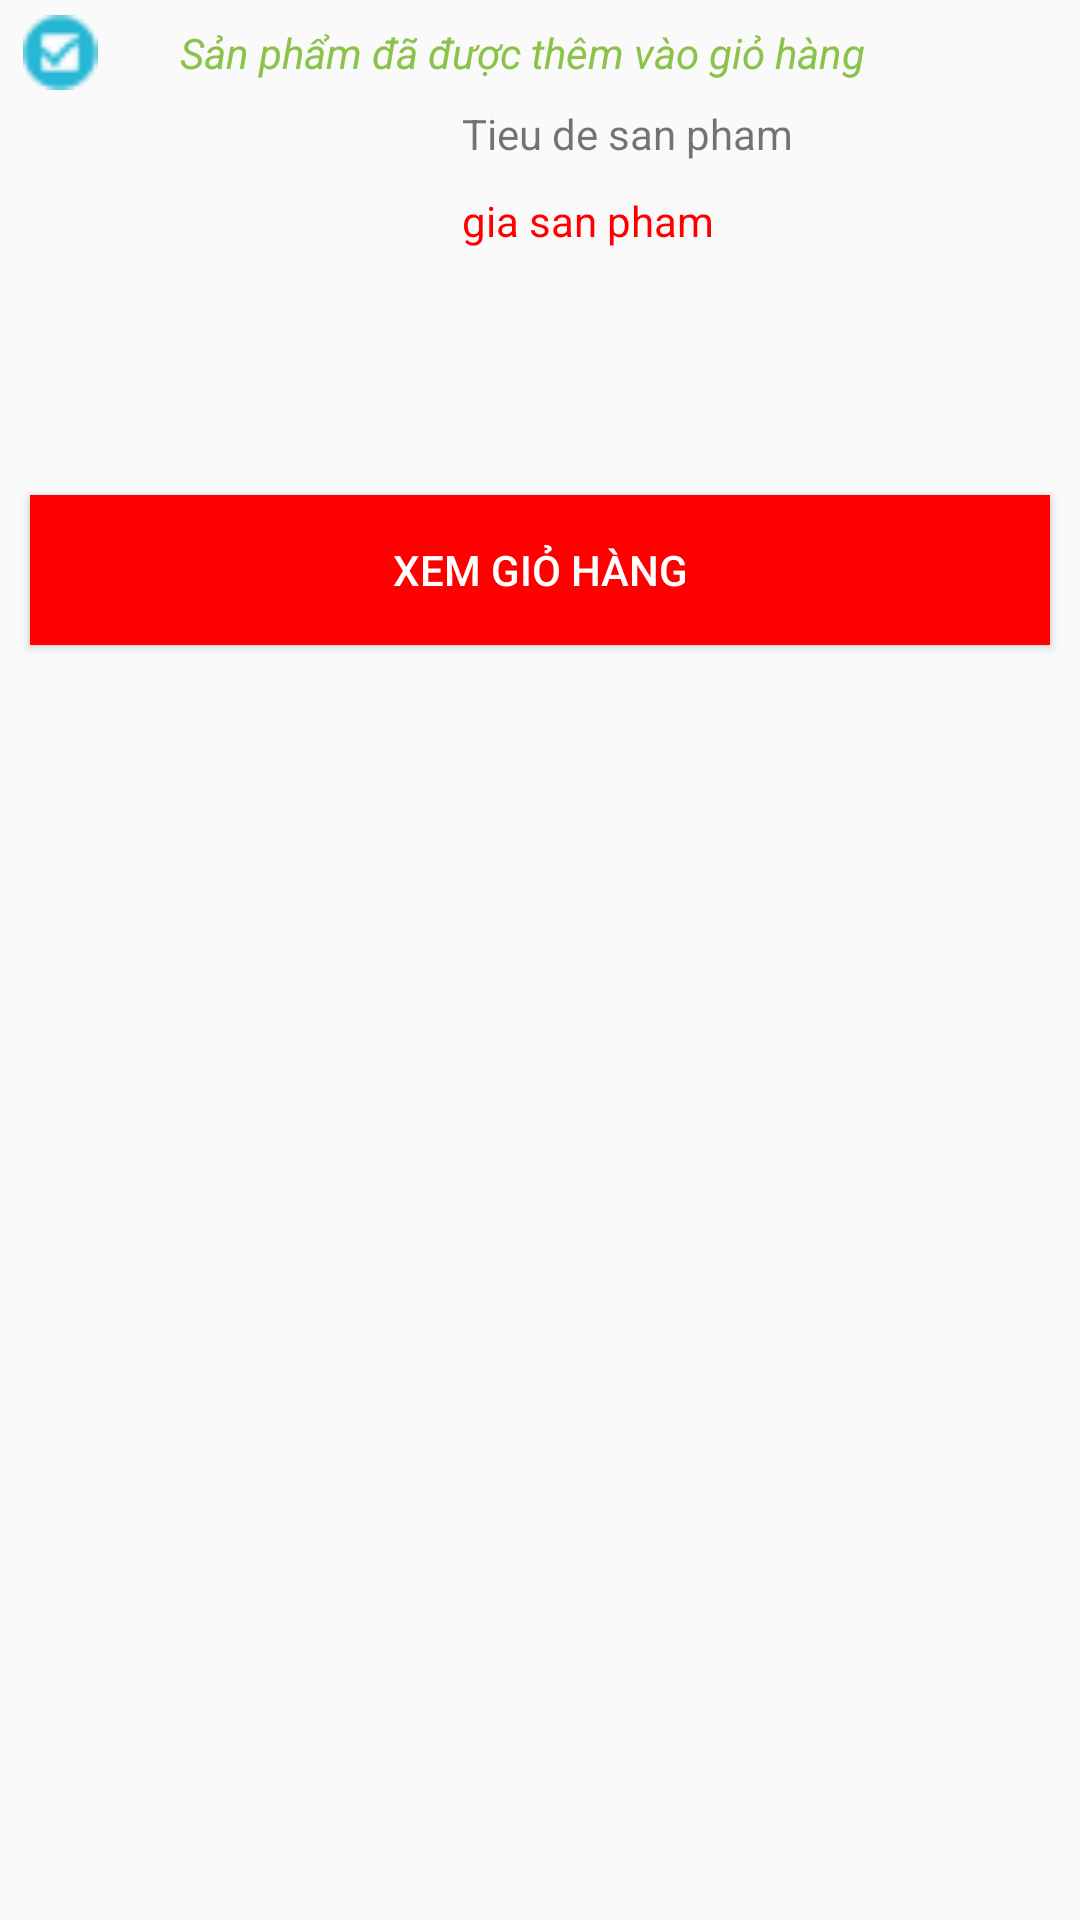

Icon click points for this 1080 x 1920 phone screenshot, format (x,y):
tick box: (60,52)
